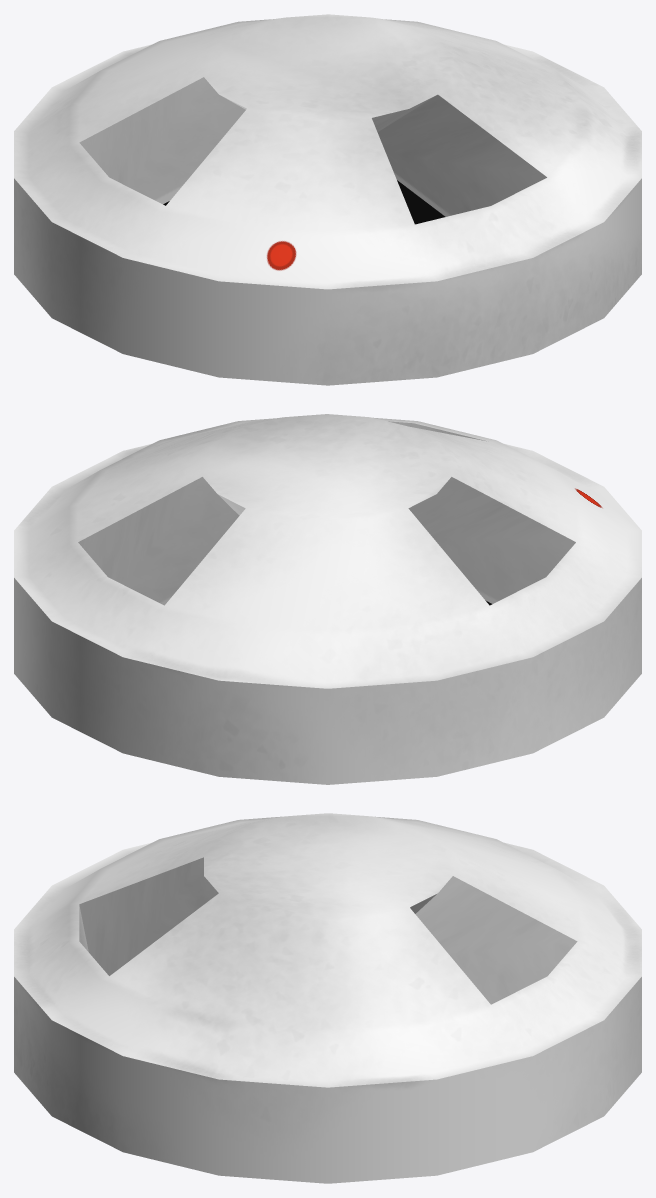
File: detector de humos.fbx
The picture shows the model from 3 angles, top to bottom: view 1: azimuth 30°, elevation 25°; view 2: azimuth 150°, elevation 25°; view 3: azimuth 270°, elevation 25°; orthographic projection.
Visible parts, largest first — view 1: Cylinder001; view 2: Cylinder001; view 3: Cylinder001.
Boxes of the visible parts, x1,y1,x2,y2 form: Cylinder001: (14, 14, 641, 385); Cylinder001: (14, 414, 641, 784); Cylinder001: (14, 813, 641, 1183).
Size of the model in its own units: 10.48 by 3.31 by 10.32.
